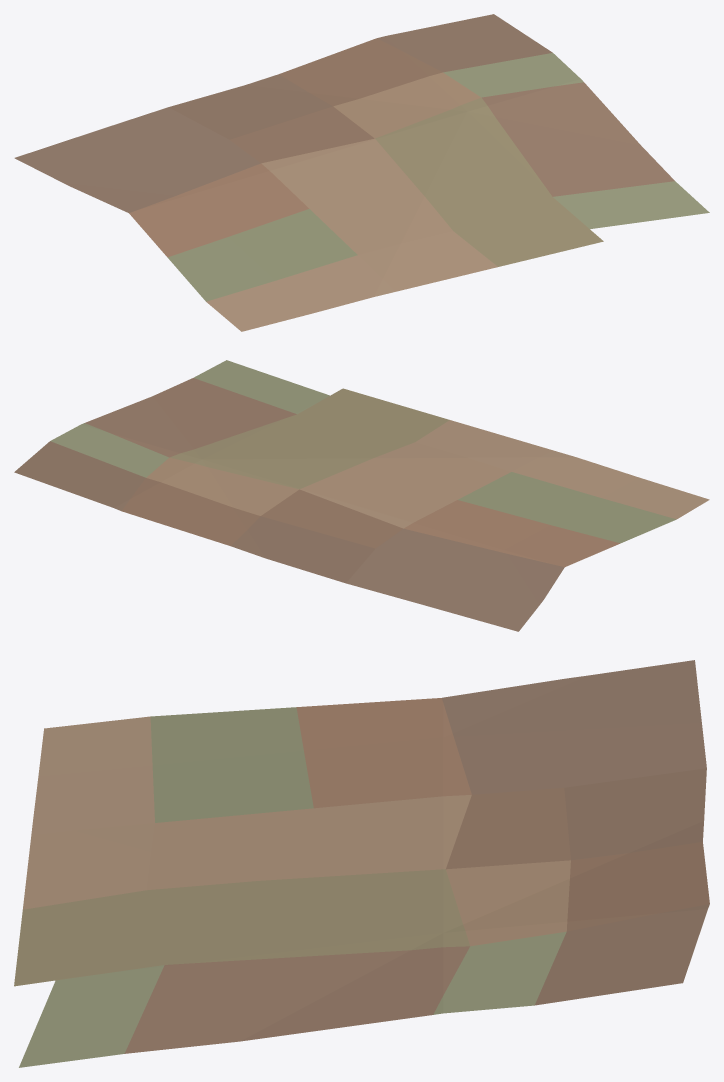
Rendered from farm_6_36_soil.glb.
The picture shows the model from 3 angles, top to bottom: view 1: azimuth 30°, elevation 25°; view 2: azimuth 150°, elevation 25°; view 3: azimuth 270°, elevation 25°; orthographic projection. The views are drawn at different scales.
Visible parts, largest first — view 1: geometry_0; view 2: geometry_0; view 3: geometry_0.
Boxes of the visible parts, x1,y1,x2,y2 form: geometry_0: (14, 14, 709, 331); geometry_0: (14, 360, 709, 631); geometry_0: (14, 660, 709, 1067).
Size of the model in its own units: 138 by 16.6 by 107.
